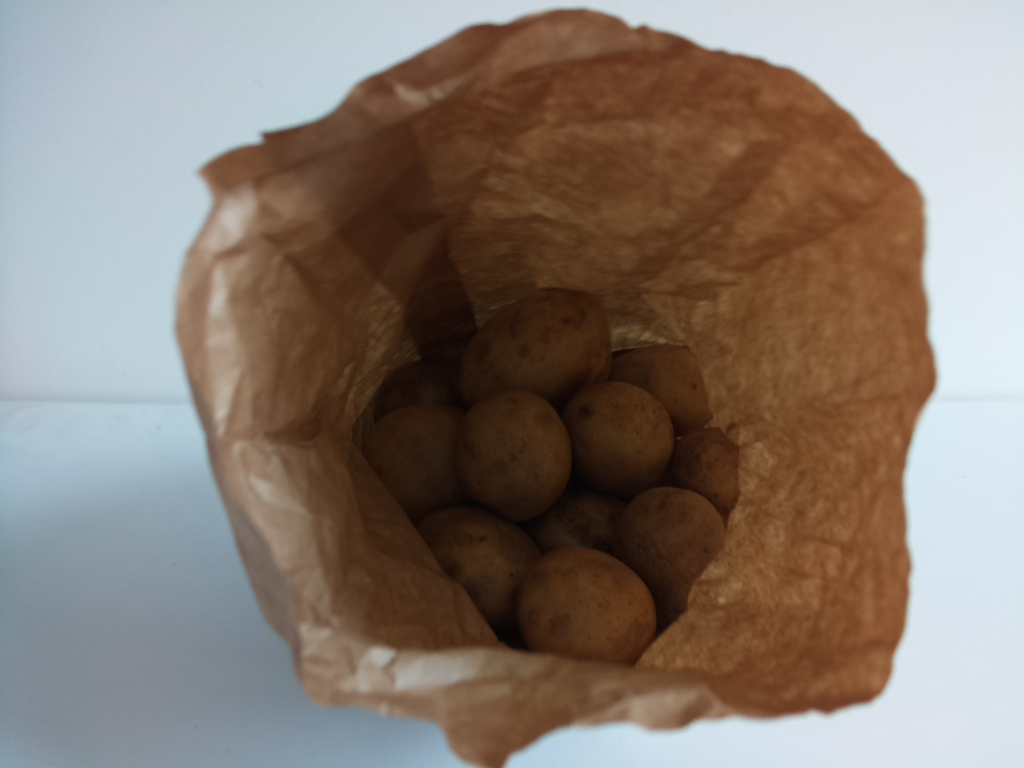potatoes: (368, 289, 742, 656)
